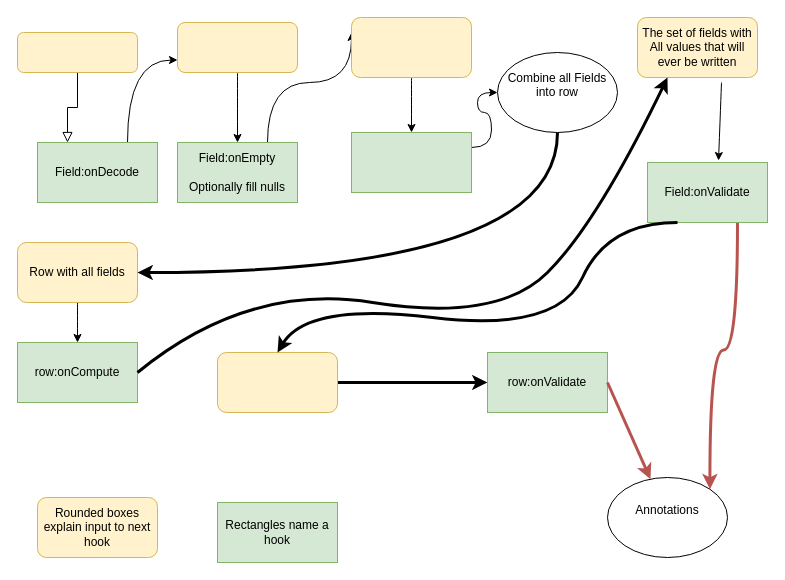
This 785x580 diagram has some shape labels left out. The box of each missing label's shape, as (x1, y1, x2, y2) in pixels:
All fields with a non null value: (350, 16, 472, 78)
All Values null or proper type per schema: (176, 22, 298, 72)
Data mapped, all values string or null: (16, 32, 138, 72)
Field:onCompute: (350, 132, 472, 192)
Row + existing annotations: (216, 352, 338, 412)
